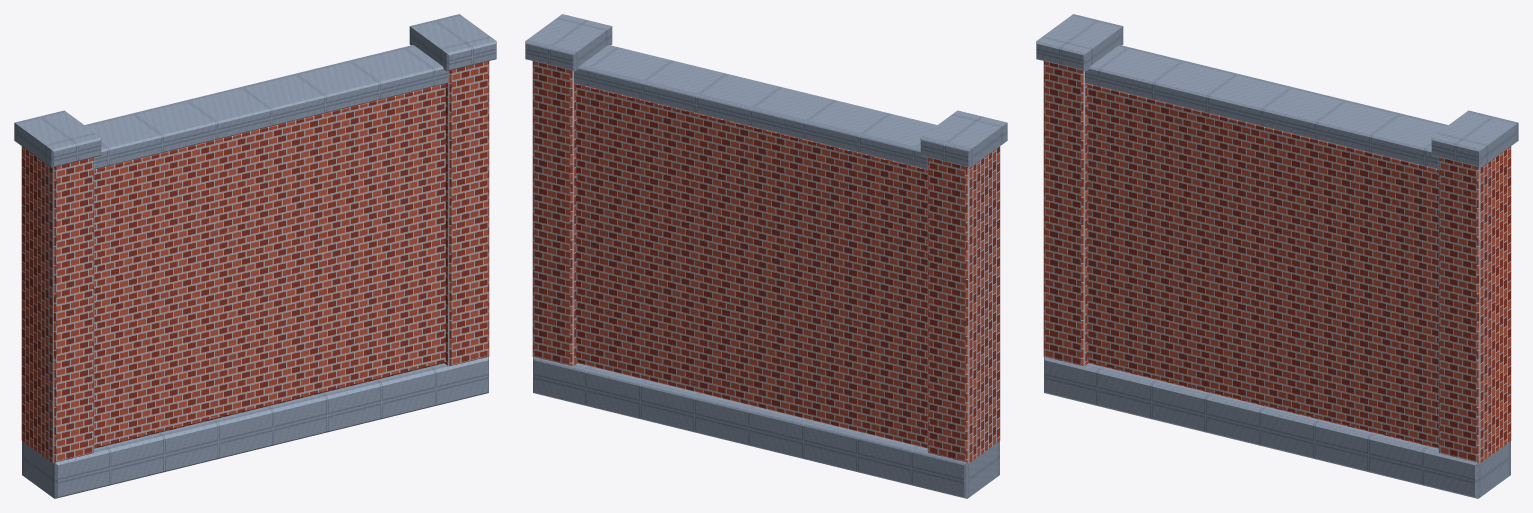
Rendered from wall_section_brick.glb.
The picture shows the model from 3 angles, left to right: view 1: azimuth 30°, elevation 25°; view 2: azimuth 150°, elevation 25°; view 3: azimuth 330°, elevation 25°; orthographic projection.
Parts seen in each view (by area): view 1: wall_section_brick; view 2: wall_section_brick; view 3: wall_section_brick.
Part boxes in pixels (<box>): wall_section_brick: <box>14,14,496,498</box>; wall_section_brick: <box>525,14,1007,498</box>; wall_section_brick: <box>1036,14,1518,498</box>.
Size of the model in its own units: 4.1 by 3.1 by 0.62.
Materials: 2 (2 with a texture image).
